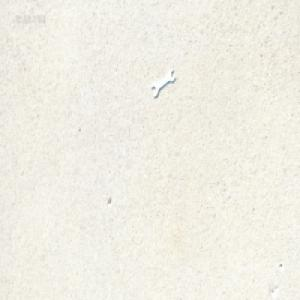Wrench: (152, 68, 175, 98)
